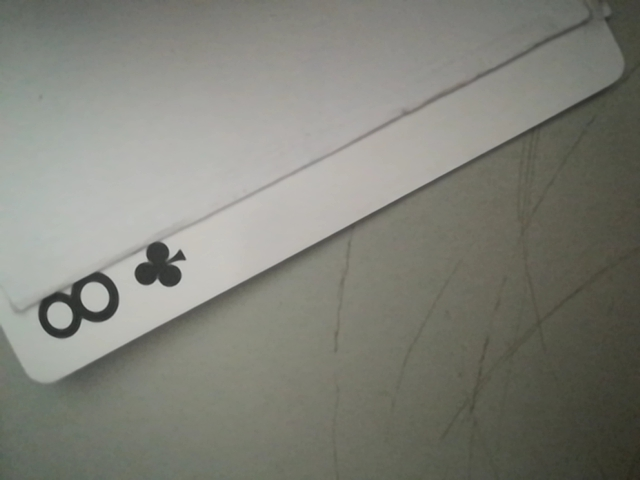mh 8: (12, 237, 201, 355)
